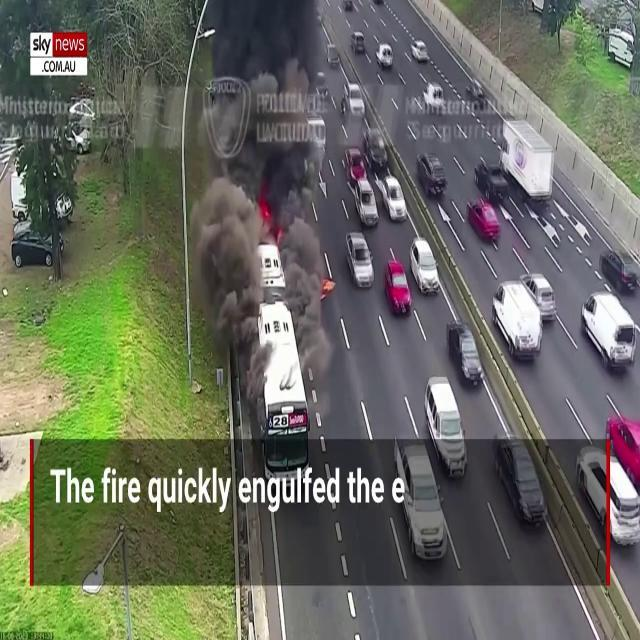Smoke: (166, 0, 327, 364)
